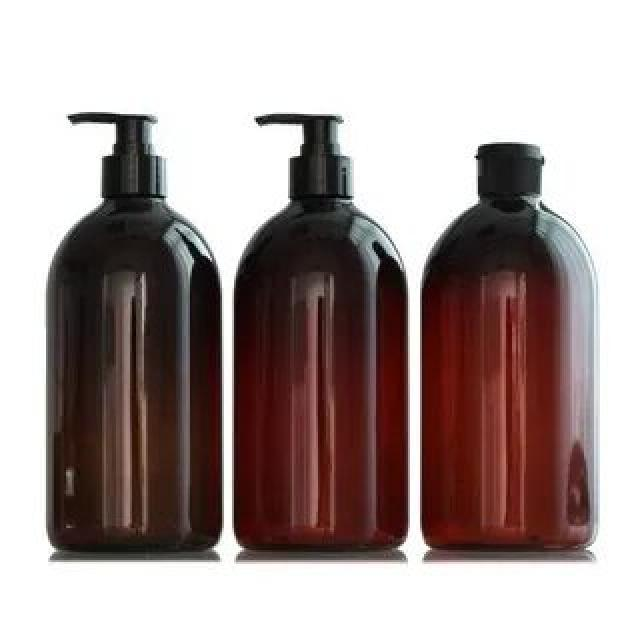brown: (43, 195, 222, 553), (420, 193, 597, 552), (233, 197, 410, 553)
